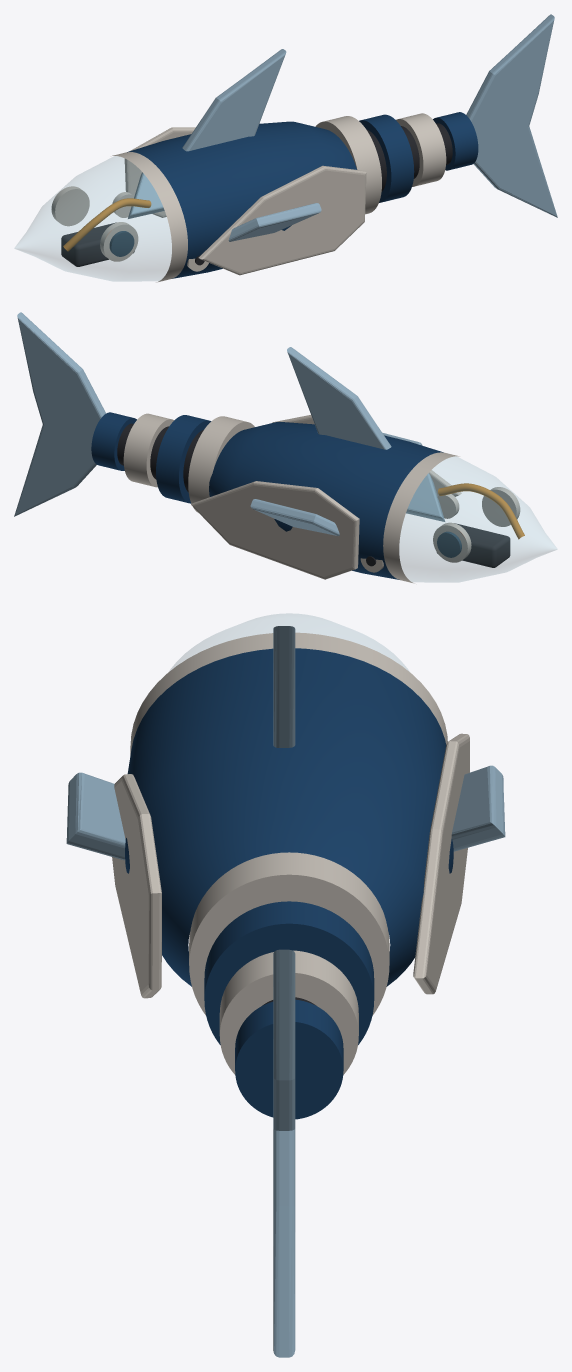
Rendered from robots-23.glb.
3 views of the same model, one above another, from view 1: azimuth 30°, elevation 25°; view 2: azimuth 150°, elevation 25°; view 3: azimuth 270°, elevation 25° (orthographic). The views are drawn at different scales.
Visible parts, largest first — view 1: body, nose, tail, rings, dorsal, frame, sensor, fins, joints, wiring, fin-hubs; view 2: body, nose, tail, rings, dorsal, frame, fins, sensor, joints, wiring, fin-hubs; view 3: body, rings, tail, fins, frame, nose, dorsal.
Boxes of the visible parts, x1=… form: body: x1=124, y1=121, x2=366, y2=278; nose: x1=14, y1=156, x2=171, y2=281; tail: x1=466, y1=14, x2=557, y2=217; rings: x1=315, y1=112, x2=478, y2=214; dorsal: x1=182, y1=49, x2=286, y2=151; frame: x1=61, y1=152, x2=187, y2=282; sensor: x1=51, y1=186, x2=138, y2=261; fins: x1=128, y1=172, x2=321, y2=241; joints: x1=366, y1=123, x2=452, y2=191; wiring: x1=63, y1=198, x2=151, y2=251; fin-hubs: x1=112, y1=192, x2=208, y2=271; body: x1=191, y1=415, x2=461, y2=579; nose: x1=399, y1=456, x2=556, y2=582; tail: x1=14, y1=312, x2=105, y2=516; rings: x1=91, y1=412, x2=254, y2=512; dorsal: x1=287, y1=347, x2=391, y2=449; frame: x1=383, y1=452, x2=510, y2=583; fins: x1=250, y1=432, x2=445, y2=535; sensor: x1=433, y1=487, x2=520, y2=562; joints: x1=117, y1=423, x2=203, y2=492; wiring: x1=438, y1=483, x2=524, y2=539; fin-hubs: x1=360, y1=494, x2=459, y2=572; body: x1=112, y1=648, x2=469, y2=998; rings: x1=189, y1=852, x2=389, y2=1119; tail: x1=273, y1=949, x2=295, y2=1357; fins: x1=66, y1=765, x2=505, y2=860; frame: x1=130, y1=632, x2=447, y2=755; nose: x1=170, y1=613, x2=408, y2=670; dorsal: x1=273, y1=626, x2=295, y2=747.
Bounding box in the file's own units: 3.34 × 1.38 × 1.17.
